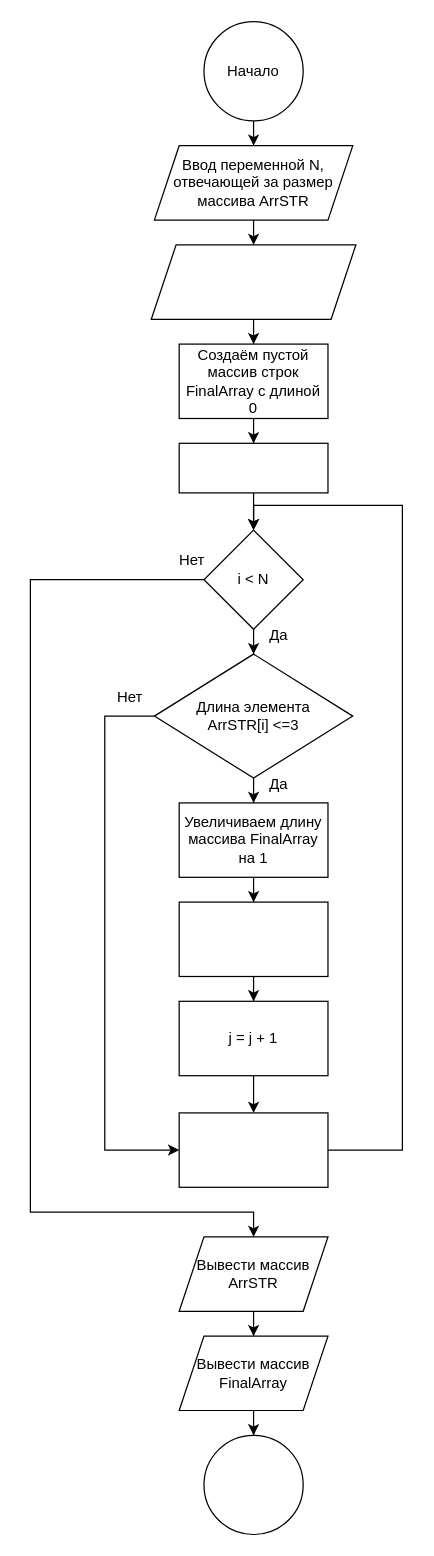
Some shapes in this 434 by 1556 pixel diagram are drawn without their labels. Here are the shapes that lost their labels. From the top down, the centre of each, then its label:
At (x=253, y=281): "Создаём и заполняем массив ArrSTR".
At (x=253, y=467): "i = 0 j = 0".
At (x=253, y=938): "FinalArray[j] = ArrSTR[i]".
At (x=253, y=1149): "i = i + 1".
At (x=253, y=1484): "Конец".
